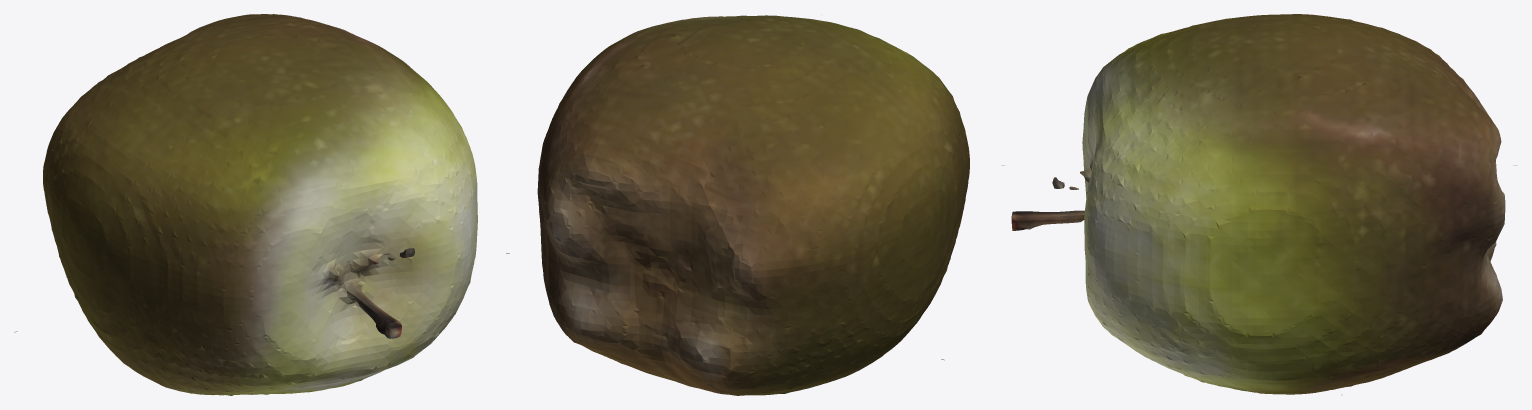
The model's file is generated_model.glb.
3 views of the same model, side by side, from view 1: azimuth 30°, elevation 25°; view 2: azimuth 150°, elevation 25°; view 3: azimuth 270°, elevation 25° (orthographic). The views are drawn at different scales.
Visible parts, largest first — view 1: geometry_0; view 2: geometry_0; view 3: geometry_0.
Boxes of the visible parts, box(x1,y1,x2,y2) form: geometry_0: box(14, 14, 477, 395); geometry_0: box(506, 14, 969, 395); geometry_0: box(1001, 14, 1517, 395).
Bounding box in the file's own units: 2.07 × 1.45 × 2.07.
